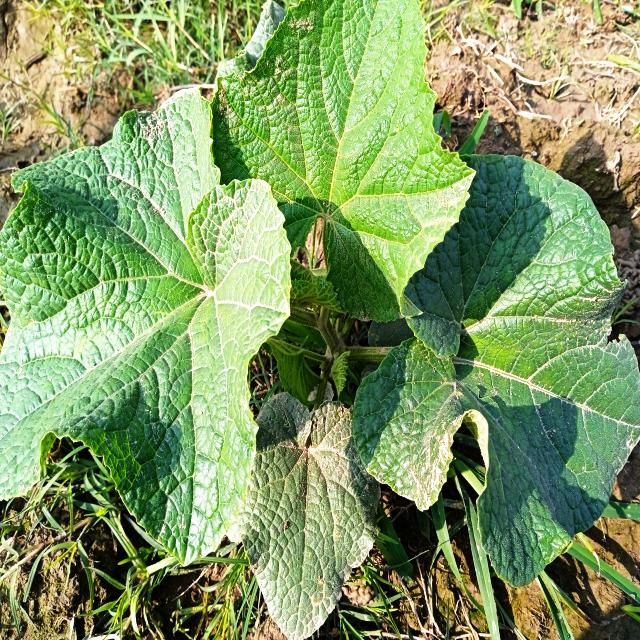Fresh-Leaf: (211, 0, 474, 322)
